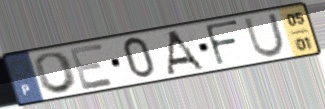0: (121, 35, 159, 83)
A: (165, 28, 208, 76)
E: (67, 41, 117, 92)
F: (202, 18, 241, 68)
O: (32, 50, 82, 96)
U: (242, 11, 288, 59)
